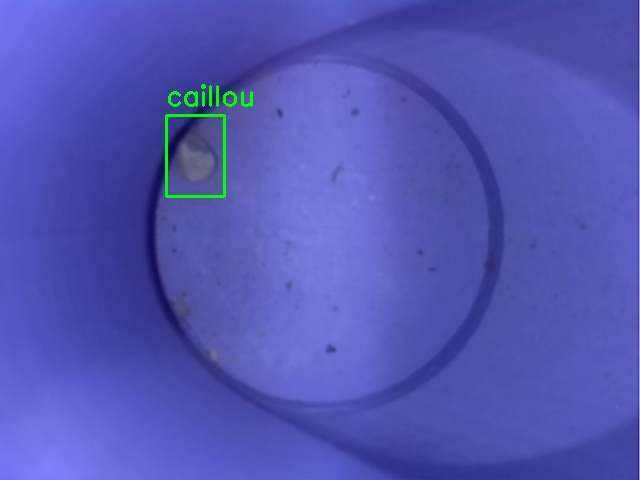caillou: (166, 115, 224, 196)
